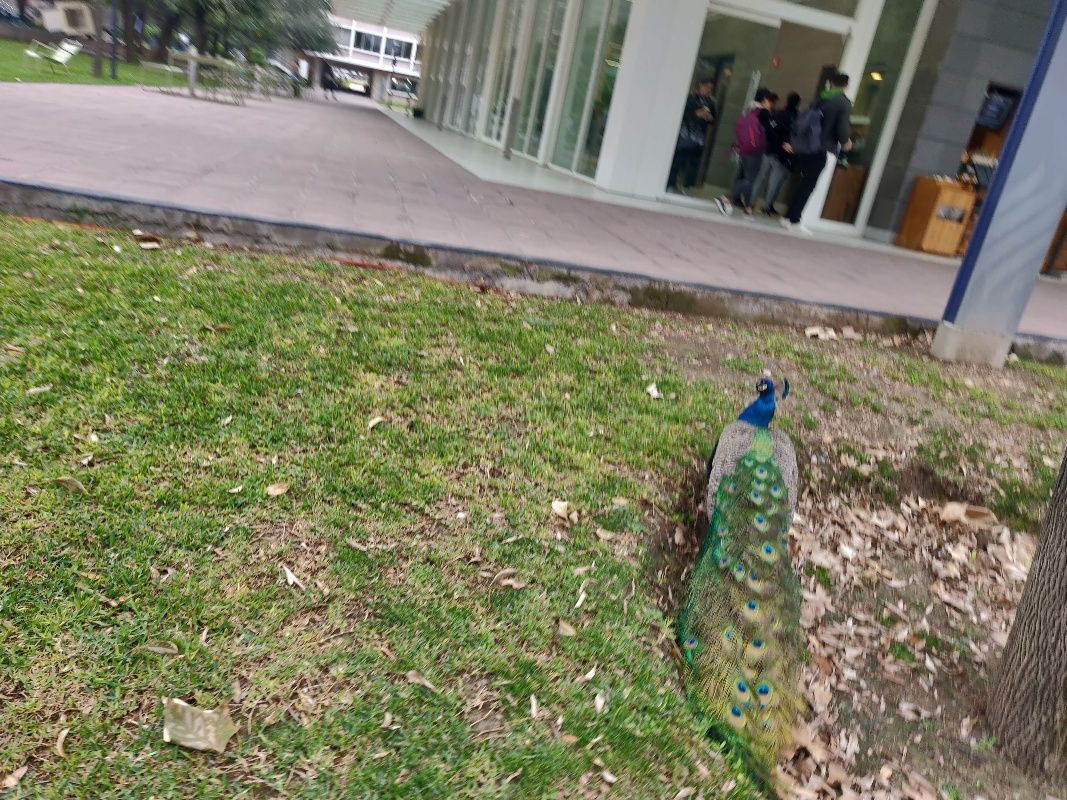pavoreal: (719, 377, 798, 488)
